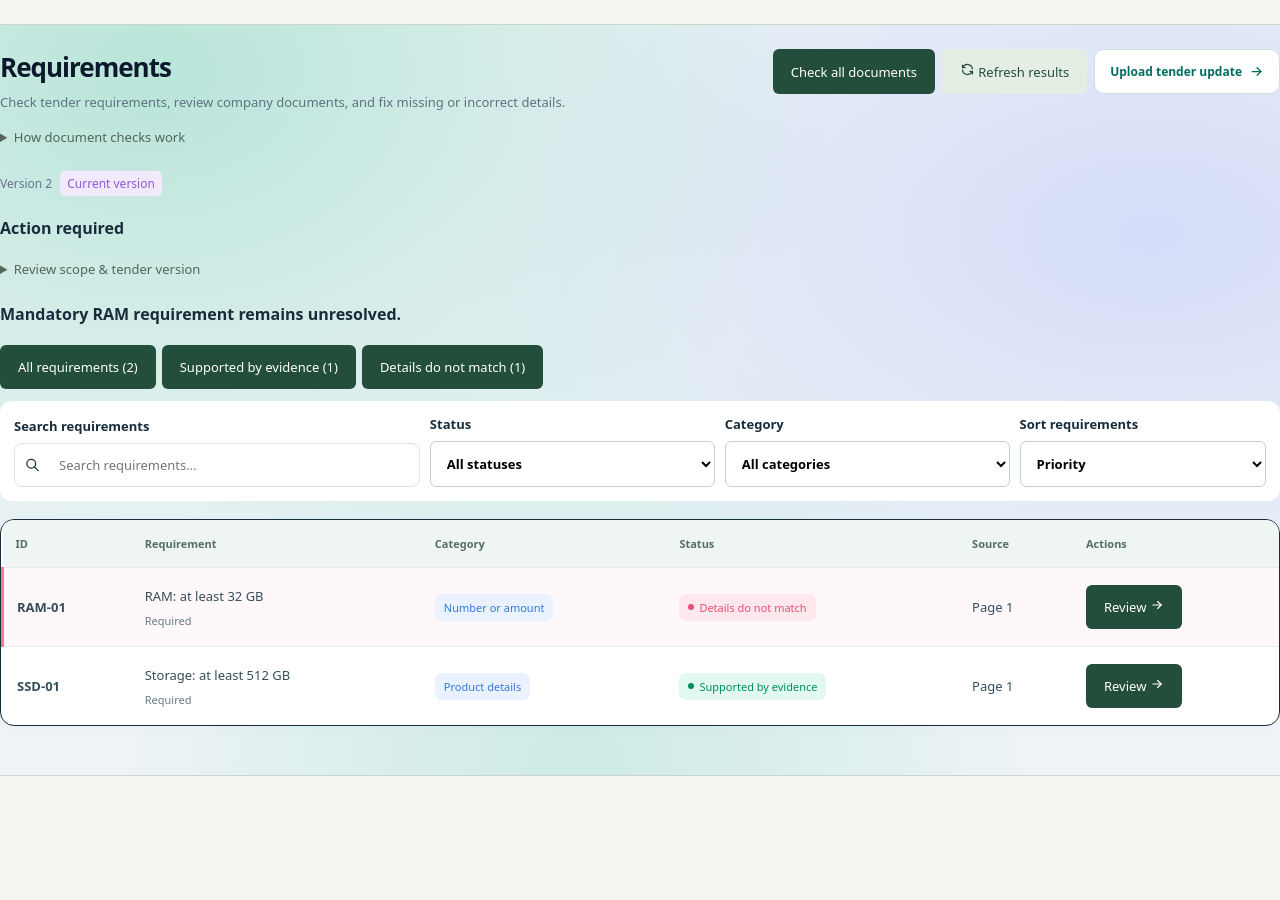
Test: supplier dashboard › opens review in a focused dialog before detail loads and returns focus on Escape
This screenshot has width=1280, height=900.
Click the button with aria-label "Review requirement RAM-01".
click(1134, 607)  # box [1086,585,1182,629]
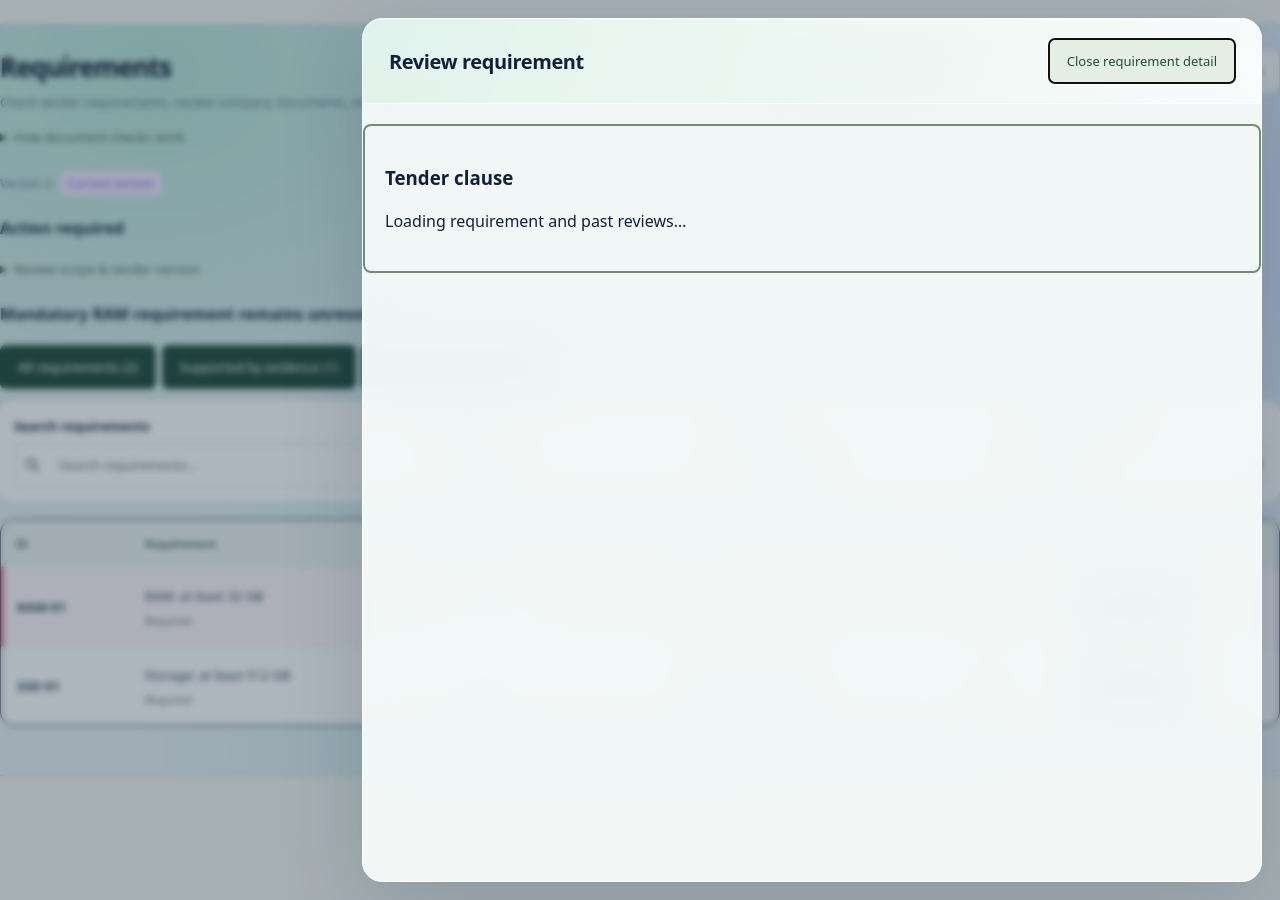
Expected: the dialog named "Requirement review" is shown
Expected: the message shows "Loading requirement and past reviews", [385,210,686,232]
Press Escape
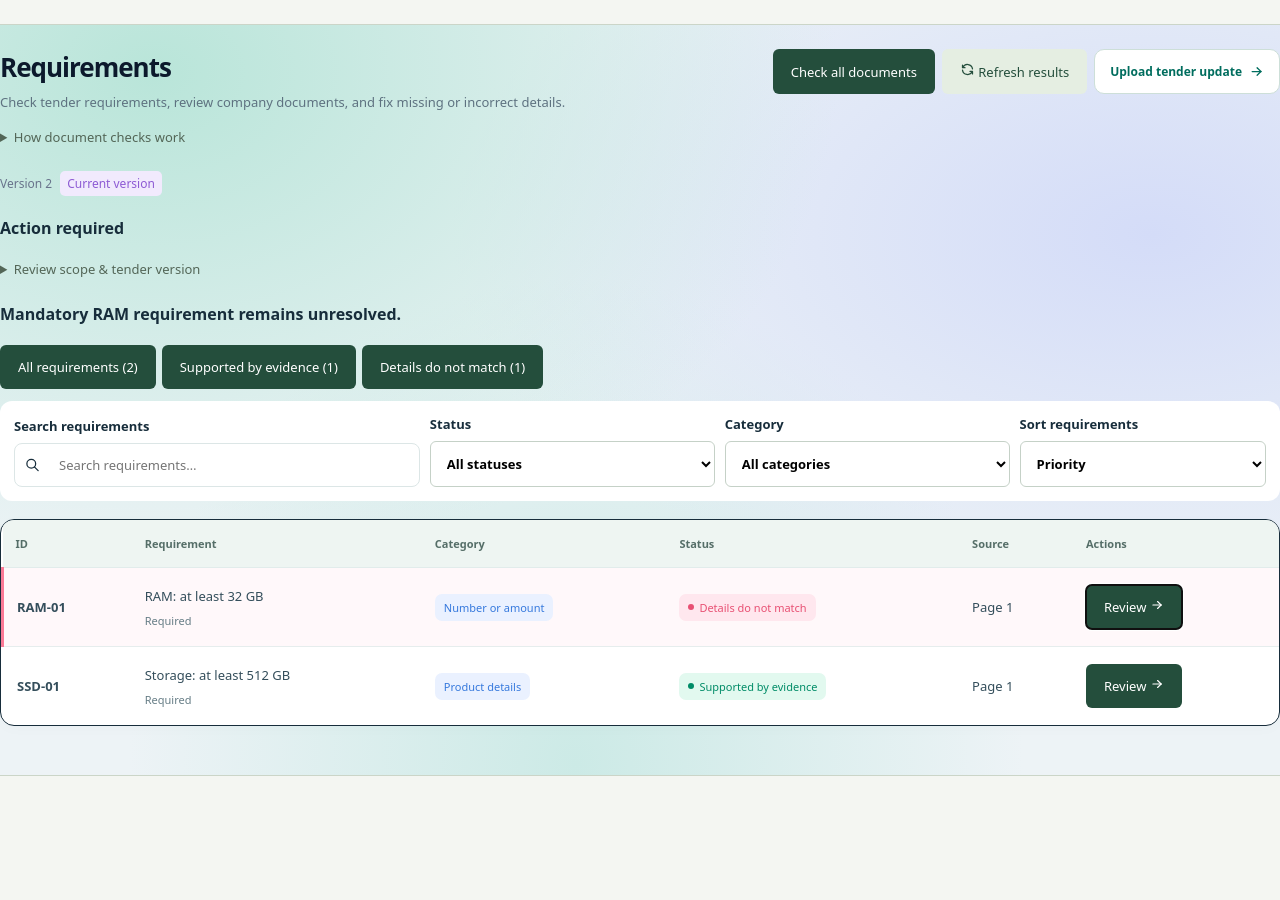
Expected: the dialog is gone
